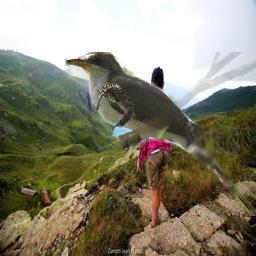Cuckoo: (65, 52, 256, 216)
